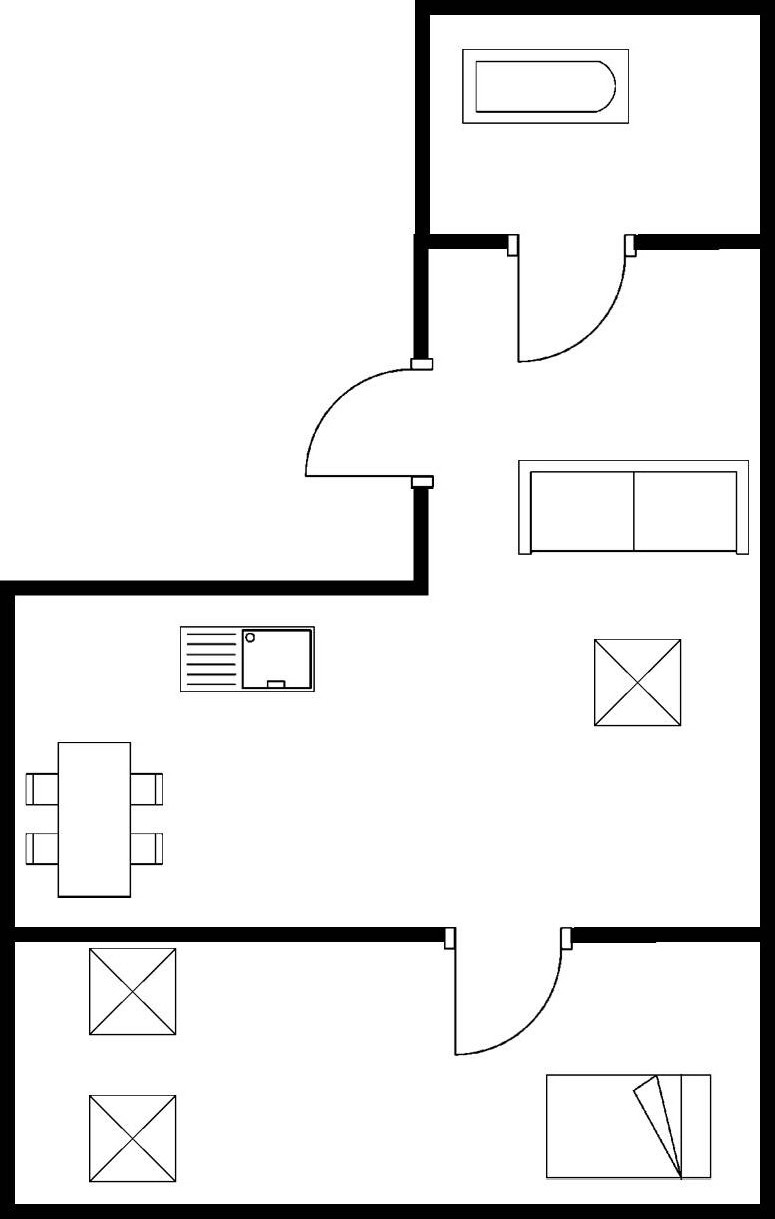bed: (538, 1068, 717, 1185)
coffee_table: (81, 1090, 185, 1189), (588, 633, 688, 735), (83, 943, 182, 1043)
dining_table: (19, 735, 172, 906)
large_sofa: (513, 455, 754, 563)
sink: (172, 620, 322, 699)
tub: (452, 40, 639, 133)
